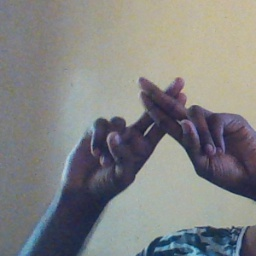F: (94, 69, 237, 166)
